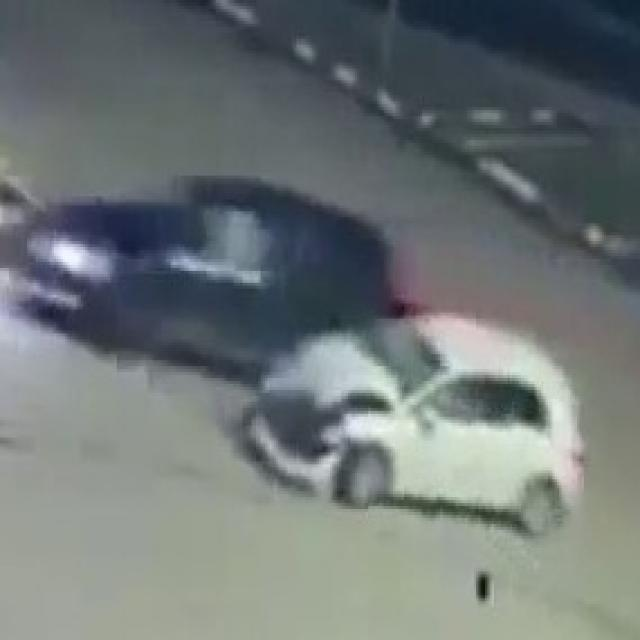accident: (41, 163, 586, 544)
